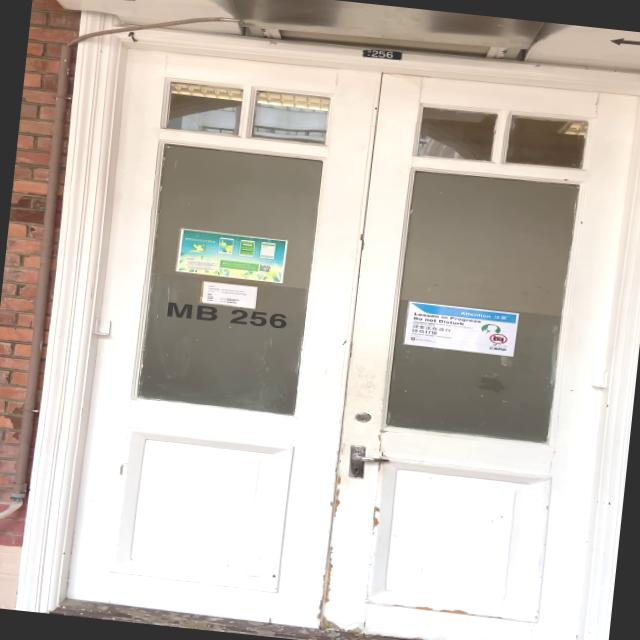room256: (360, 44, 406, 62)
room256Window: (162, 296, 288, 332)
